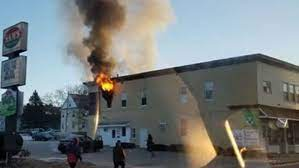smoke: (47, 1, 165, 68)
